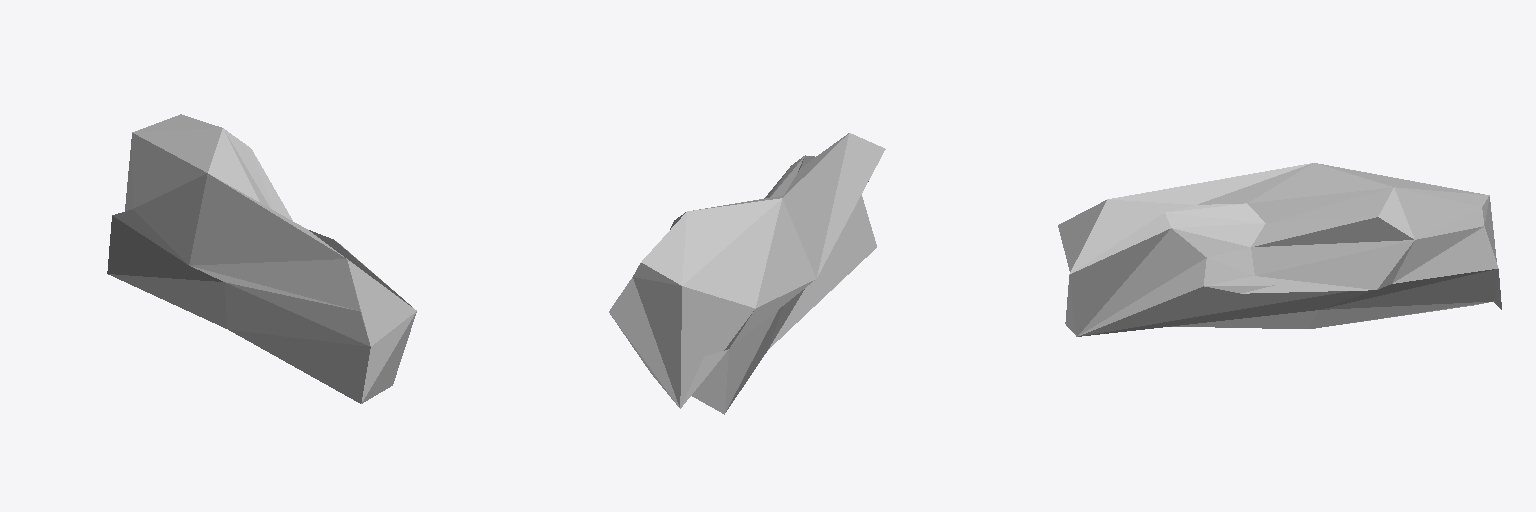
Rendered from RightGun.obj.
3 renders of one model, left to right at view 1: azimuth 30°, elevation 25°; view 2: azimuth 150°, elevation 25°; view 3: azimuth 270°, elevation 25°, orthographic.
Parts seen in each view (by area): view 1: Cube.002; view 2: Cube.002; view 3: Cube.002.
Boxes of the visible parts, x1,y1,x2,y2 form: Cube.002: [107, 114, 416, 403]; Cube.002: [609, 133, 885, 414]; Cube.002: [1058, 163, 1501, 336].
Size of the model in its own units: 1.46 by 1.94 by 4.86.